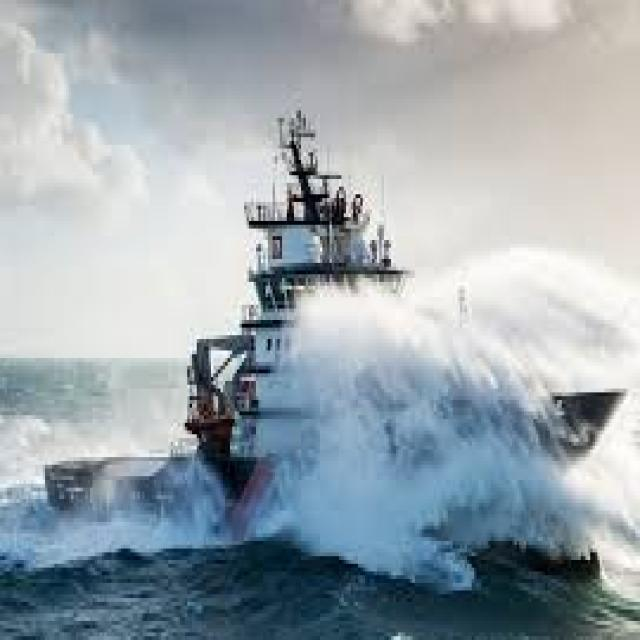navalvessels: (30, 140, 622, 570)
